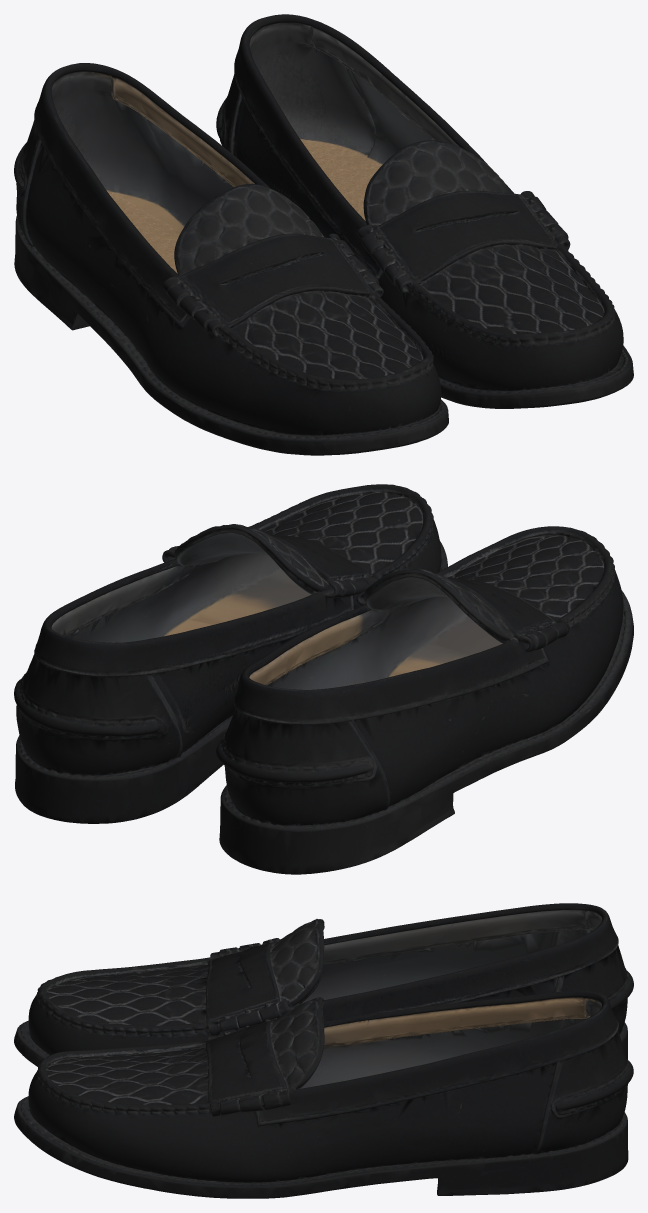
File: meshy1-reduced.glb
3 renders of one model, top to bottom at view 1: azimuth 30°, elevation 25°; view 2: azimuth 150°, elevation 25°; view 3: azimuth 270°, elevation 25°, orthographic. The views are drawn at different scales.
Size of the model in its own units: 1.3 by 0.525 by 1.9.
Materials: 1 (1 with a texture image).
